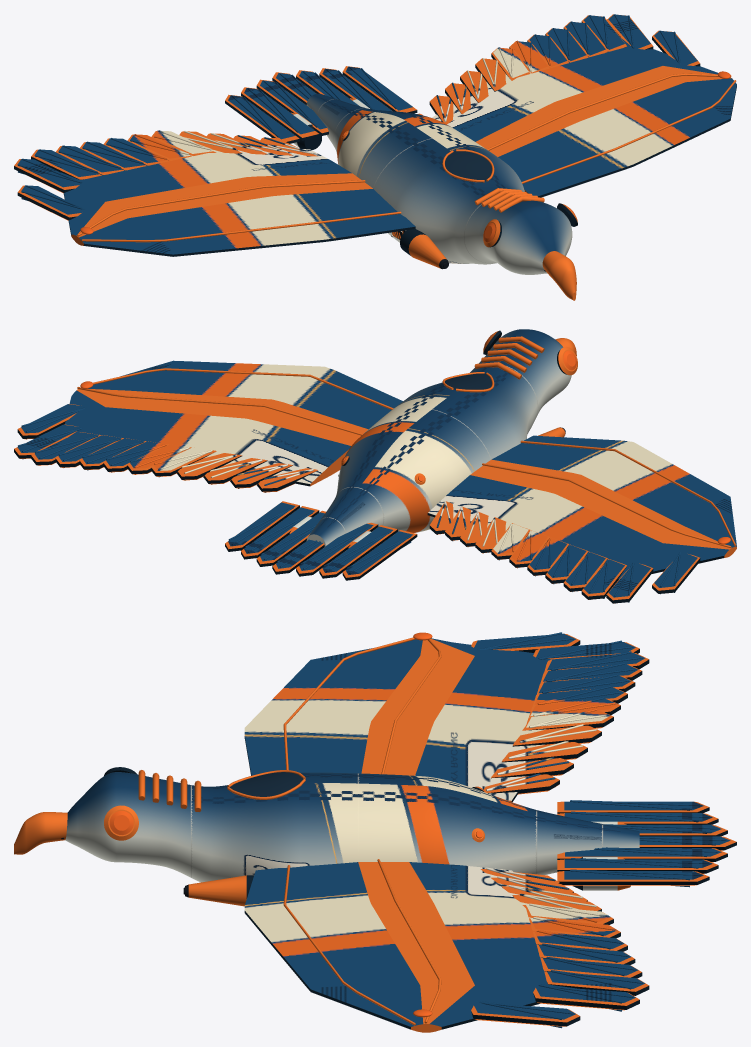
The picture shows the model from 3 angles, top to bottom: view 1: azimuth 30°, elevation 25°; view 2: azimuth 150°, elevation 25°; view 3: azimuth 270°, elevation 25°; orthographic projection. The views are drawn at different scales.
Visible parts, largest first — view 1: golden_eagle_hull; view 2: golden_eagle_hull; view 3: golden_eagle_hull.
Part boxes in pixels (left/top/right/bottom): golden_eagle_hull: left=14, top=14, right=736, bottom=300; golden_eagle_hull: left=14, top=329, right=736, bottom=603; golden_eagle_hull: left=14, top=632, right=736, bottom=1032.
Size of the model in its own units: 264 by 41.18 by 208.
1 material, 1 textured.
